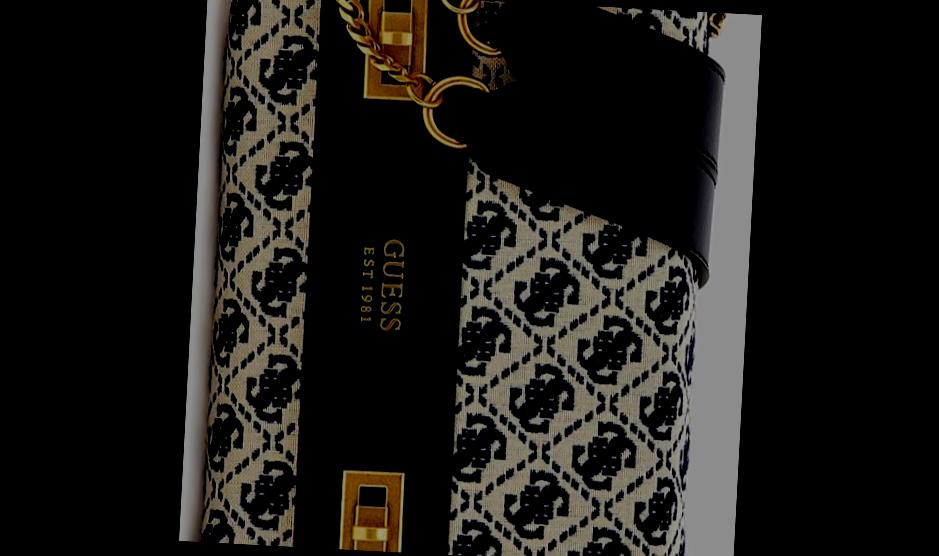GUESS: (376, 237, 404, 332)
